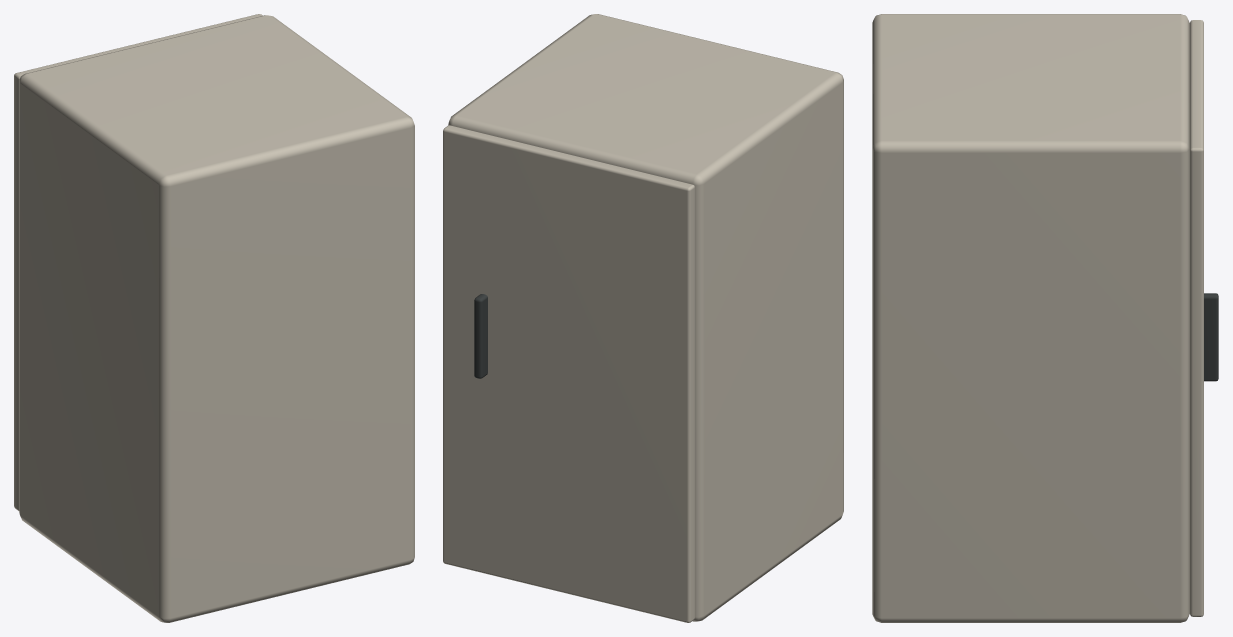
Rendered from ikea_nordkisa_bedside.glb.
The picture shows the model from 3 angles, left to right: view 1: azimuth 30°, elevation 25°; view 2: azimuth 150°, elevation 25°; view 3: azimuth 270°, elevation 25°; orthographic projection. The views are drawn at different scales.
Visible parts, largest first — view 1: body.024, door.035; view 2: door.035, body.024, handle.032; view 3: body.024, door.035, handle.032.
Part boxes in pixels (x1,y1,x2,y2): body.024: [19, 15, 414, 622]; door.035: [14, 14, 262, 510]; door.035: [443, 125, 694, 622]; body.024: [448, 14, 843, 621]; handle.032: [474, 294, 487, 378]; body.024: [872, 14, 1189, 622]; door.035: [1189, 20, 1203, 616]; handle.032: [1204, 293, 1218, 381].
Size of the model in its own units: 0.4 by 0.67 by 0.4365.
